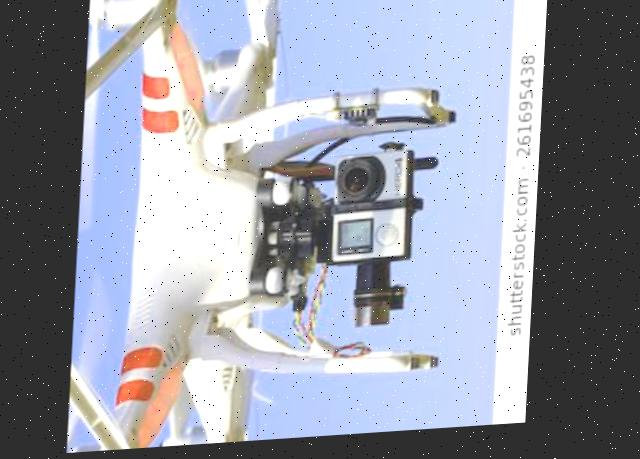drone: (72, 0, 458, 454)
